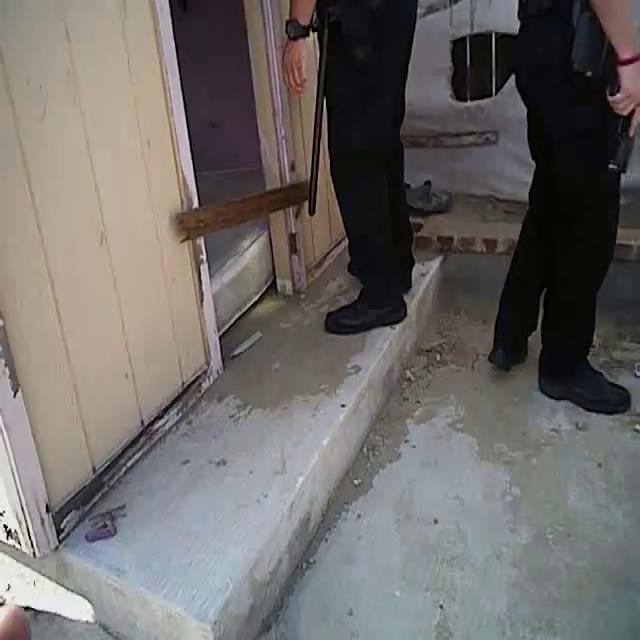gun: (595, 85, 640, 184)
